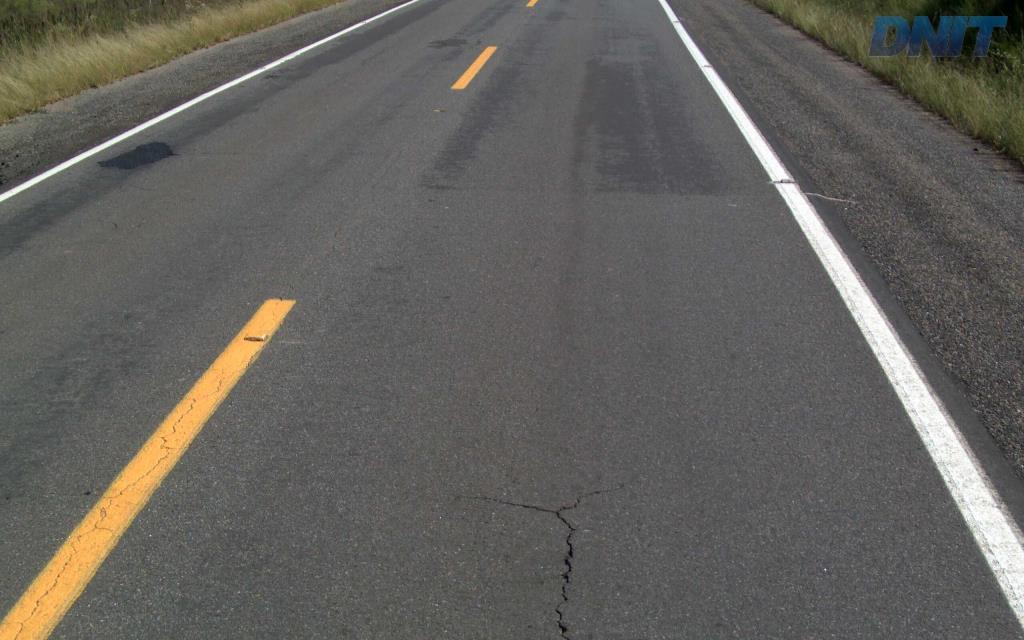crack: (473, 495, 583, 639)
